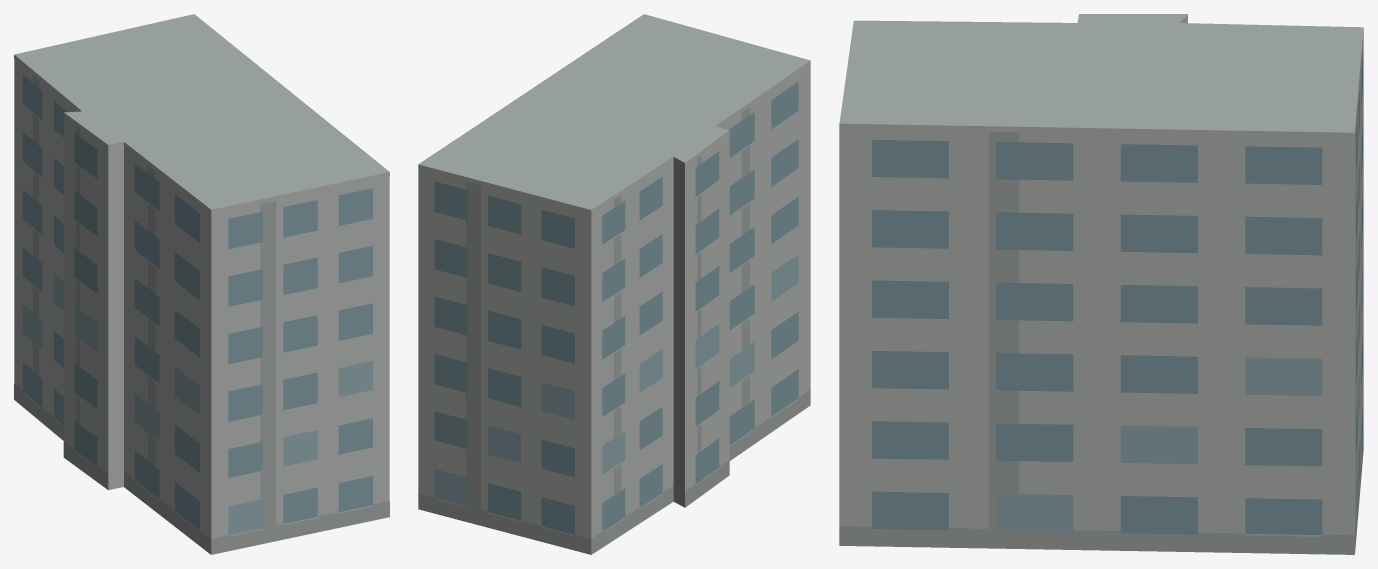
File: survey-upis-32920648.glb
3 views of the same model, side by side, from view 1: azimuth 30°, elevation 25°; view 2: azimuth 150°, elevation 25°; view 3: azimuth 270°, elevation 25° (orthographic). The views are drawn at different scales.
Parts seen in each view (by area): view 1: survey-upis-32920648.tmp; view 2: survey-upis-32920648.tmp; view 3: survey-upis-32920648.tmp.
Boxes of the visible parts, <box> form: survey-upis-32920648.tmp: <box>14,14,389,554</box>; survey-upis-32920648.tmp: <box>418,14,810,554</box>; survey-upis-32920648.tmp: <box>839,14,1363,554</box>.
Bounding box in the file's own units: 11.17 × 18.5 × 20.82.
